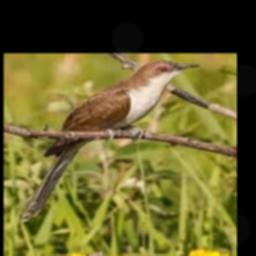Cuckoo: (19, 61, 200, 221)
